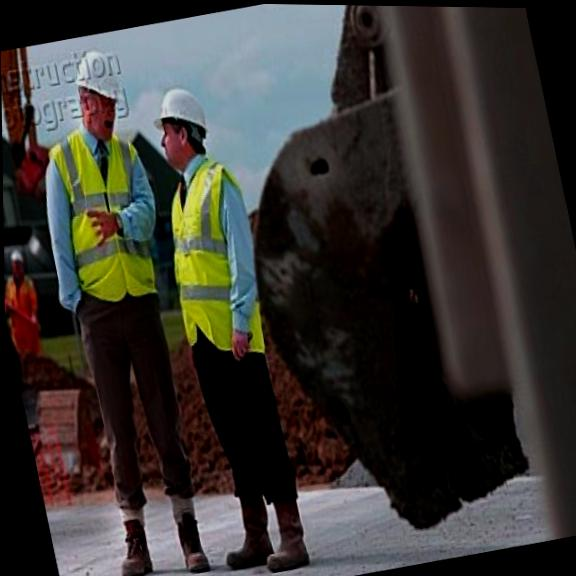safety_vest: (46, 121, 171, 314), (155, 163, 269, 361)
